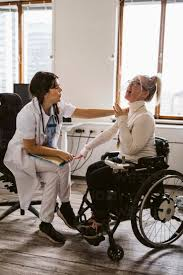wheelchair: (76, 73, 183, 263)
